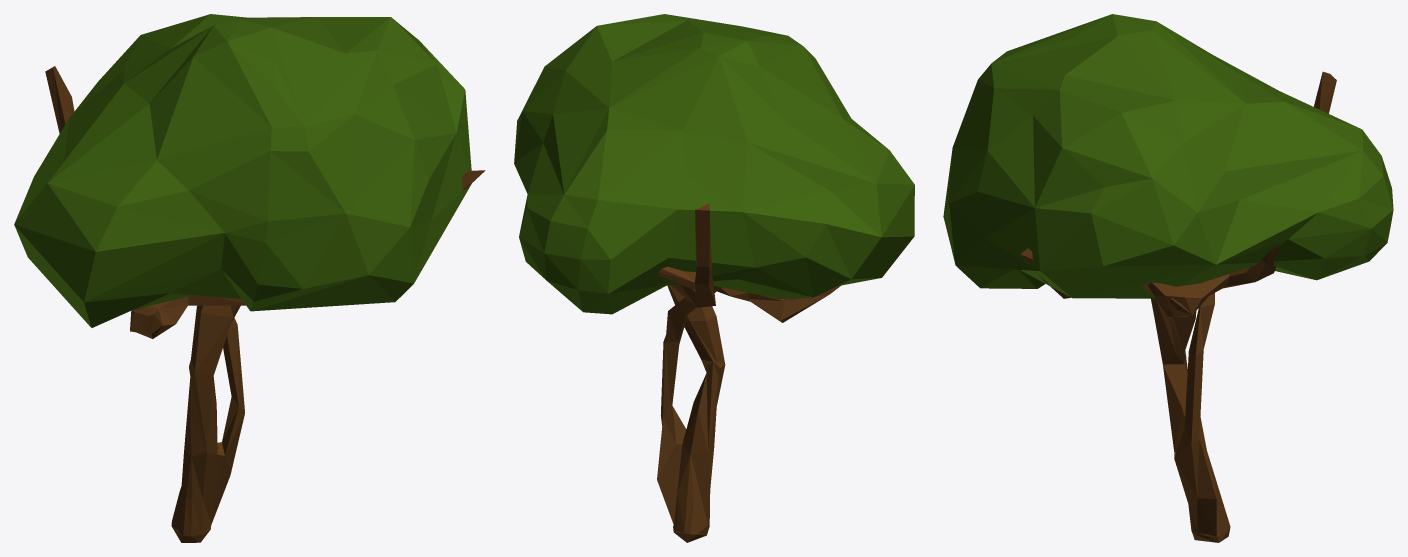
The model's file is tree-3.glb.
3 views of the same model, side by side, from view 1: azimuth 30°, elevation 25°; view 2: azimuth 150°, elevation 25°; view 3: azimuth 270°, elevation 25° (orthographic). The views are drawn at different scales.
Parts seen in each view (by area): view 1: vegetation_02_vegetation_02_0; view 2: vegetation_02_vegetation_02_0; view 3: vegetation_02_vegetation_02_0.
Part boxes in pixels (x1,y1,x2,y2): vegetation_02_vegetation_02_0: [14, 14, 485, 542]; vegetation_02_vegetation_02_0: [514, 14, 914, 542]; vegetation_02_vegetation_02_0: [943, 14, 1393, 542].
Size of the model in its own units: 167 by 205 by 161.
1 material, 1 textured.
